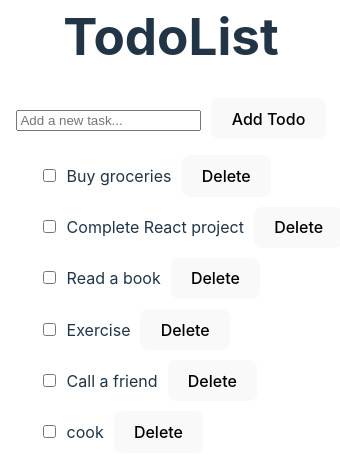
Test: allows a todo item to be deleted
Expected: the text "Buy groceries" is shown, x1=67 y1=166 x2=172 y2=186
Simulate clicking the "Delete" button
Click the button with test id "delete-button-1".
click(226, 176)  # box x1=182 y1=156 x2=271 y2=197
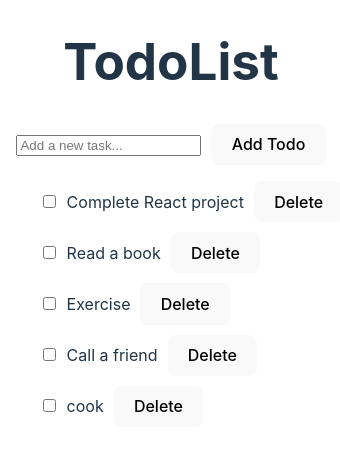
Now the text "Buy groceries" is gone
